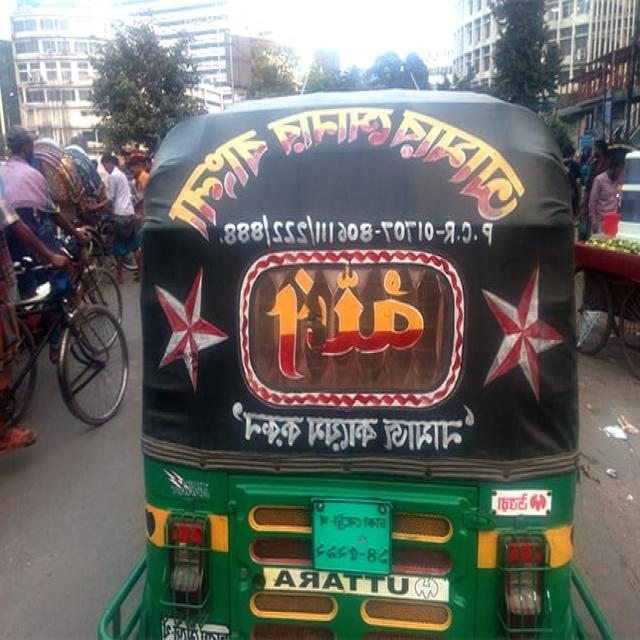CNG: (101, 92, 609, 640)
